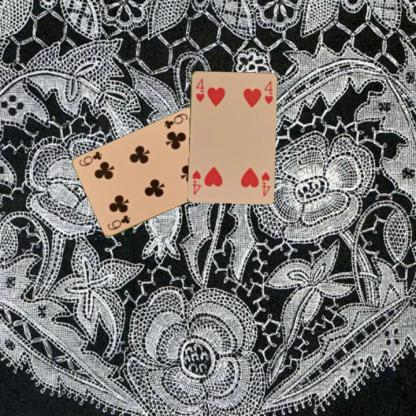4h: (258, 169, 271, 198), (193, 76, 205, 103)
6c: (104, 212, 132, 232), (161, 111, 189, 131)
